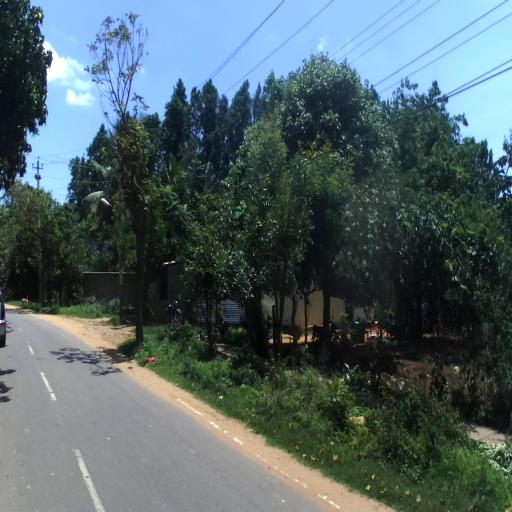street_light_0: (101, 198, 122, 223)
